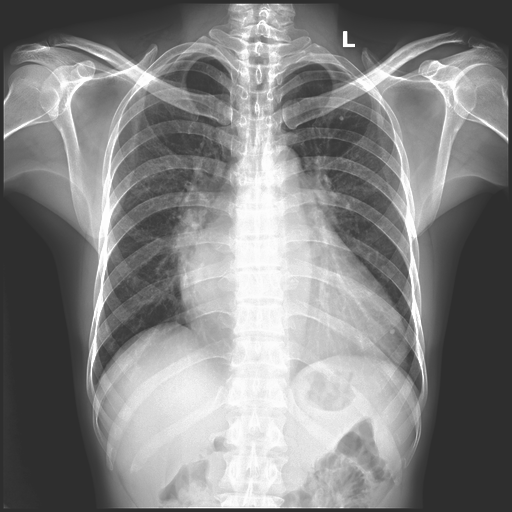Calcification: (159, 49, 195, 71)
Nodule/Mass: (181, 289, 407, 364)
Pulmonary fibrosis: (389, 328, 396, 335)
